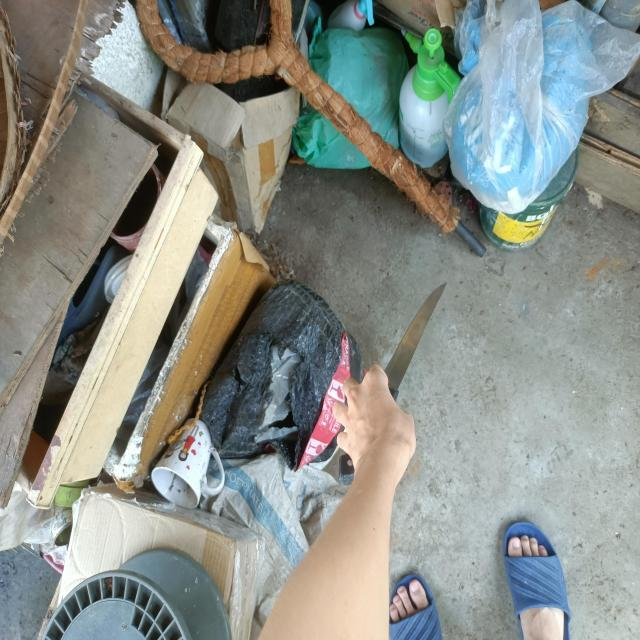knife: (382, 282, 448, 402)
